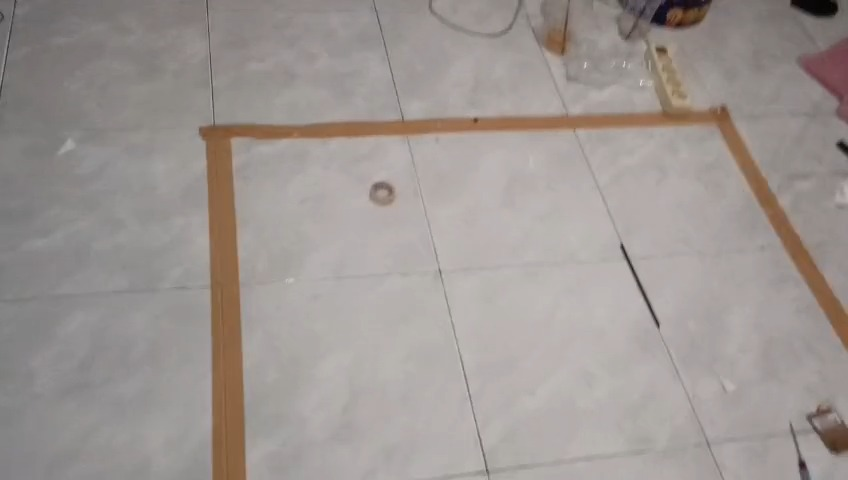floor marking: (199, 106, 847, 479)
